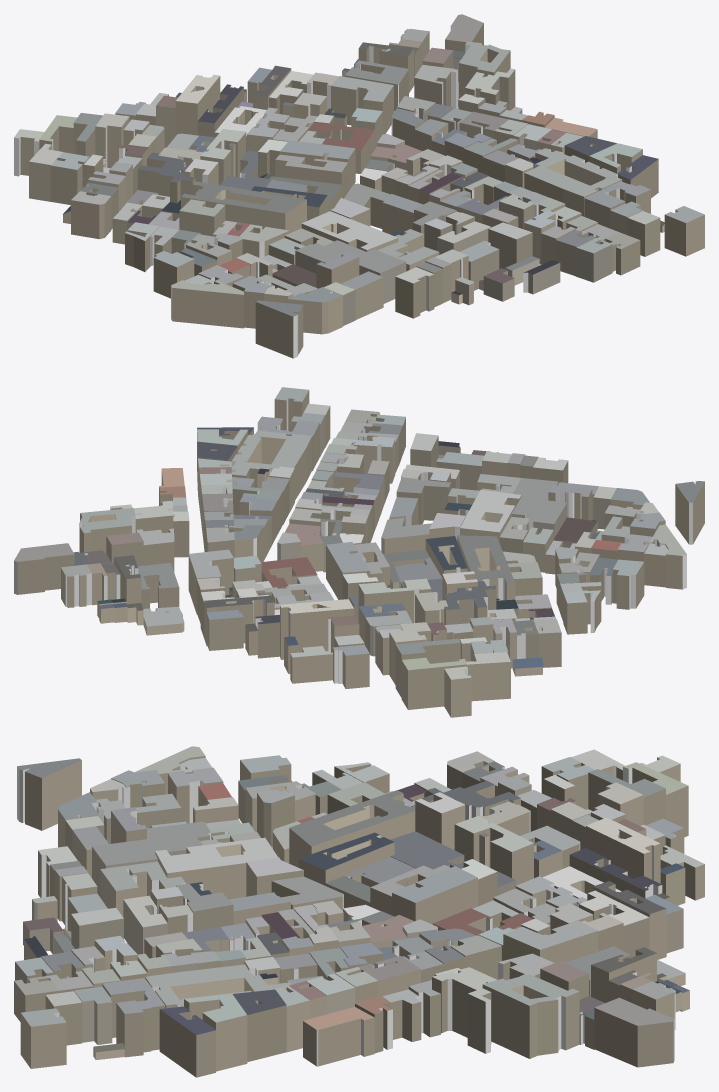
3 renders of one model, top to bottom at view 1: azimuth 30°, elevation 25°; view 2: azimuth 150°, elevation 25°; view 3: azimuth 270°, elevation 25°, orthographic. The views are drawn at different scales.
Visible parts, largest first — view 1: tuile; view 2: tuile; view 3: tuile.
Part boxes in pixels (<box>): tuile: <box>14,14,704,358</box>; tuile: <box>14,387,704,717</box>; tuile: <box>14,746,704,1077</box>.
Size of the model in its own units: 273 by 31.49 by 266.
